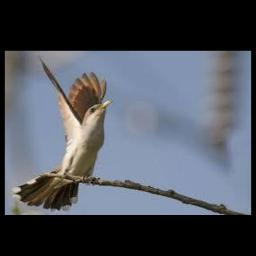Cuckoo: (13, 57, 114, 210)
